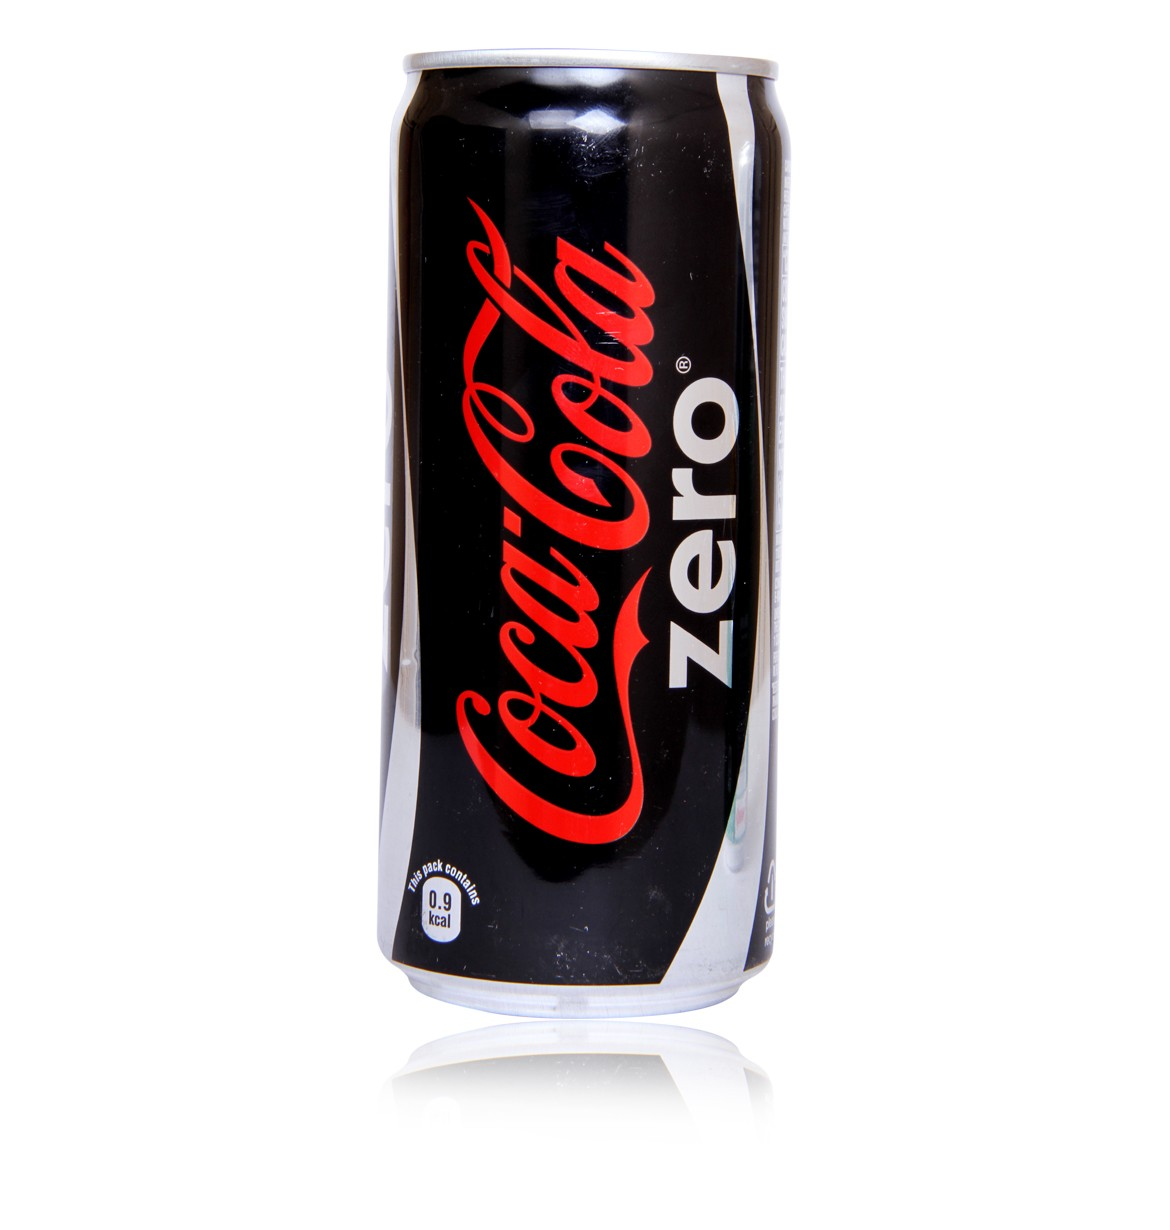can: (377, 37, 796, 1032)
